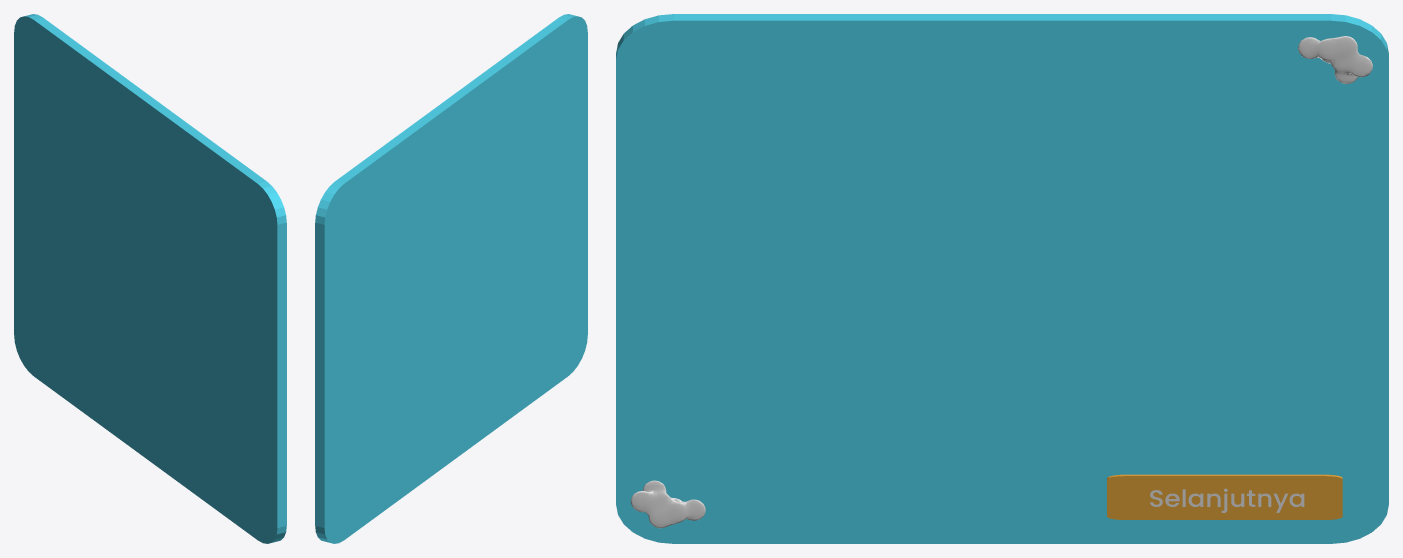
The model's file is PopUp 1.fbx.
3 views of the same model, side by side, from view 1: azimuth 30°, elevation 25°; view 2: azimuth 150°, elevation 25°; view 3: azimuth 270°, elevation 25° (orthographic). The views are drawn at different scales.
Visible parts, largest first — view 1: Cube.001; view 2: Cube.001; view 3: Cube.001, Btn Selanjutnya, Mball.001, Mball.007.
Part boxes in pixels (bbox=[...]): Cube.001: bbox=[14, 14, 286, 543]; Cube.001: bbox=[315, 14, 587, 543]; Cube.001: bbox=[616, 14, 1388, 543]; Btn Selanjutnya: bbox=[1107, 474, 1342, 519]; Mball.001: bbox=[1298, 36, 1372, 83]; Mball.007: bbox=[630, 480, 705, 528].
Size of the model in its own units: 7.97 by 200 by 268.
